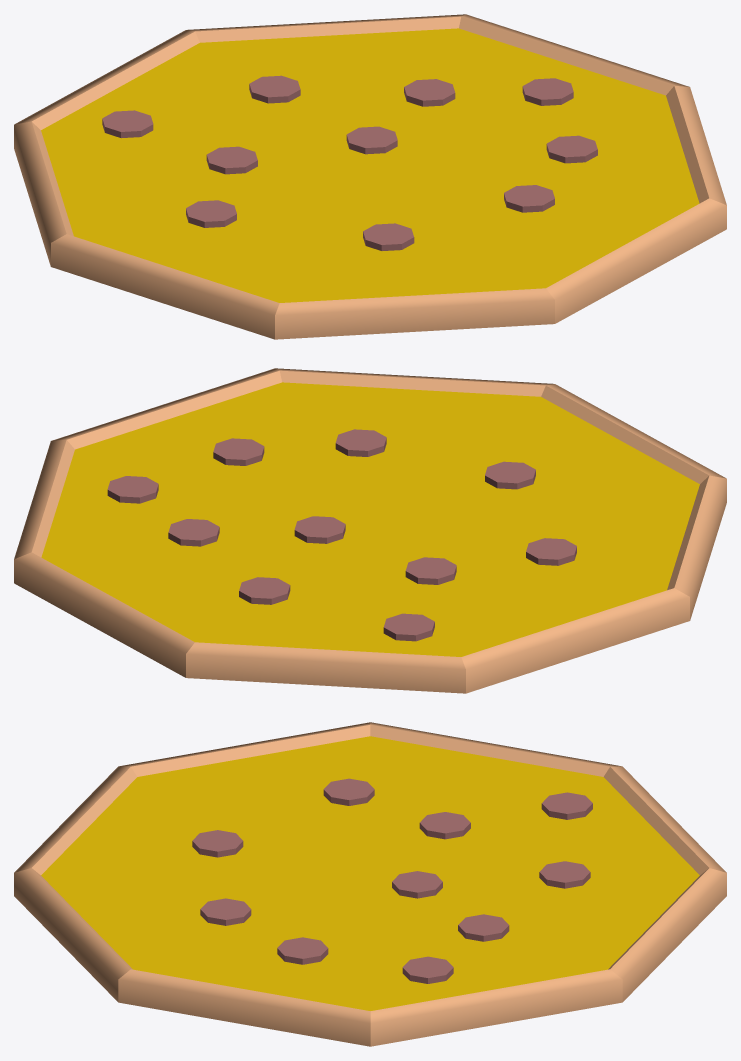
The model's file is Pepperoni Pizza 1.fbx.
3 renders of one model, top to bottom at view 1: azimuth 30°, elevation 25°; view 2: azimuth 150°, elevation 25°; view 3: azimuth 270°, elevation 25°, orthographic. The views are drawn at different scales.
Parts seen in each view (by area): view 1: pCylinder12; view 2: pCylinder12; view 3: pCylinder12.
Boxes of the visible parts, bbox=[...] form: pCylinder12: bbox=[14, 14, 726, 339]; pCylinder12: bbox=[14, 368, 726, 693]; pCylinder12: bbox=[14, 722, 726, 1046].
Size of the model in its own units: 11.6 by 0.5042 by 11.6.
